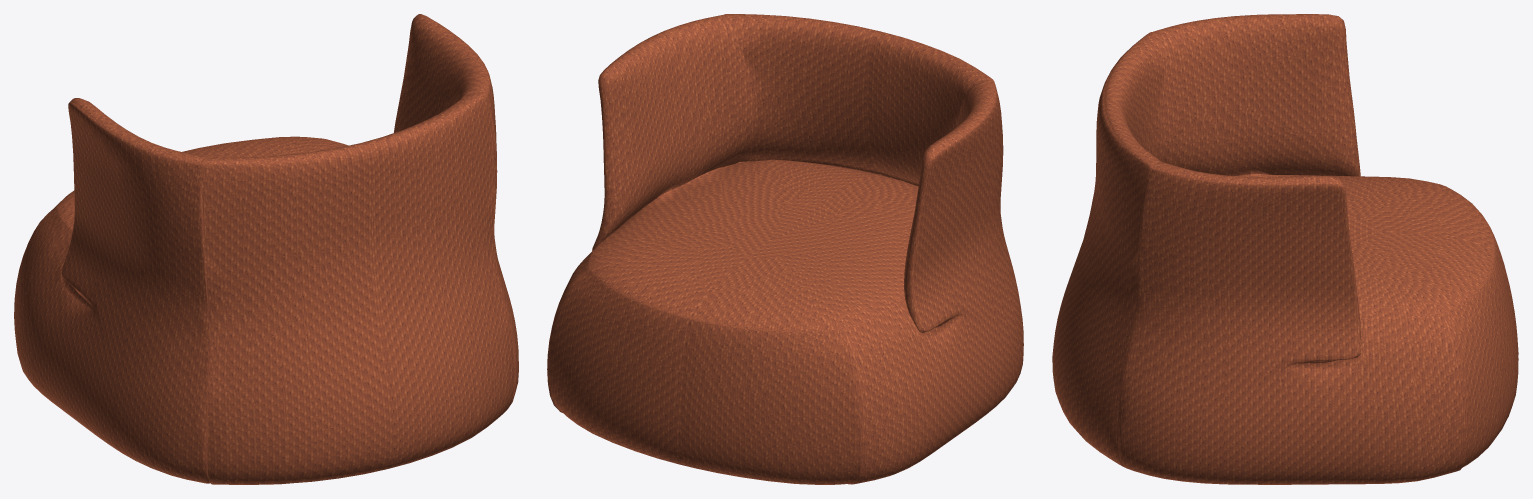
3 renders of one model, left to right at view 1: azimuth 30°, elevation 25°; view 2: azimuth 150°, elevation 25°; view 3: azimuth 270°, elevation 25°, orthographic. The views are drawn at different scales.
Parts seen in each view (by area): view 1: mesh3_mesh3-geometry, mesh1_mesh1-geometry; view 2: mesh3_mesh3-geometry, mesh1_mesh1-geometry; view 3: mesh1_mesh1-geometry, mesh3_mesh3-geometry.
Part boxes in pixels (bbox=[...]): mesh3_mesh3-geometry: bbox=[14, 98, 394, 484]; mesh1_mesh1-geometry: bbox=[182, 14, 518, 468]; mesh3_mesh3-geometry: bbox=[679, 31, 1023, 484]; mesh1_mesh1-geometry: bbox=[547, 14, 880, 465]; mesh1_mesh1-geometry: bbox=[1052, 99, 1518, 484]; mesh3_mesh3-geometry: bbox=[1052, 14, 1518, 356].
Bounding box in the file's own units: 0.605 × 0.468 × 0.6442.
